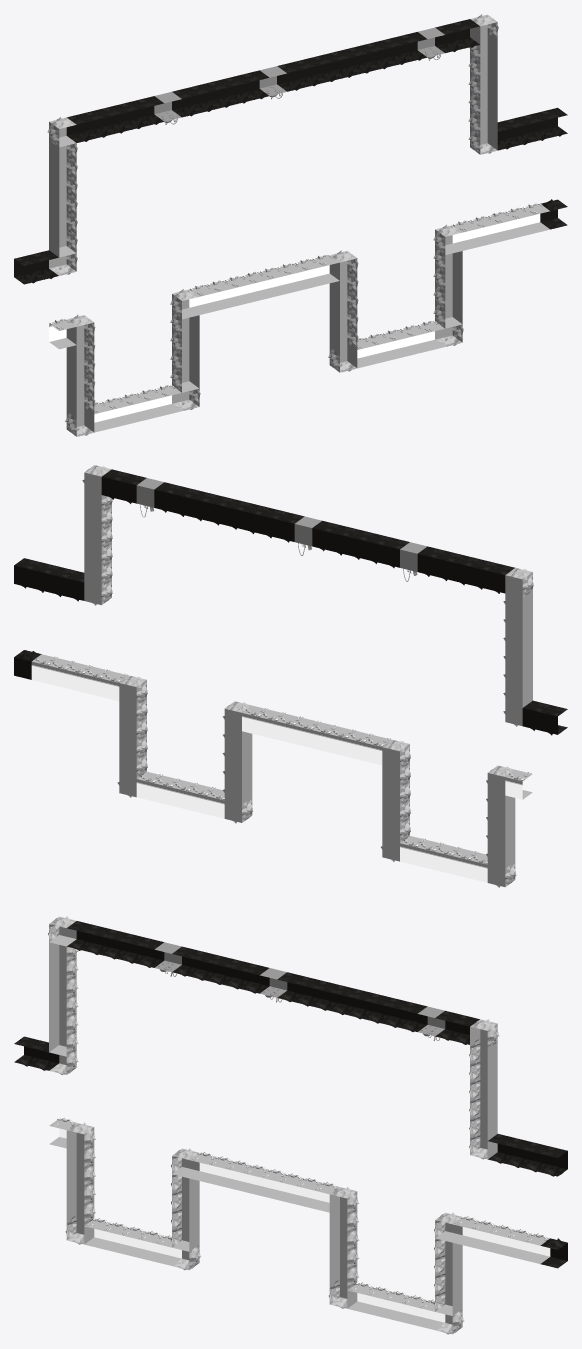
Rendered from Cubi_Room14.fbx.
3 renders of one model, top to bottom at view 1: azimuth 30°, elevation 25°; view 2: azimuth 150°, elevation 25°; view 3: azimuth 330°, elevation 25°, orthographic.
Visible parts, largest first — view 1: Cubes_Room14; view 2: Cubes_Room14; view 3: Cubes_Room14.
Boxes of the visible parts, x1,y1,x2,y2 form: Cubes_Room14: (14,14,567,436); Cubes_Room14: (14,465,567,887); Cubes_Room14: (14,916,567,1334).
Size of the model in its own units: 3100 by 1745 by 100.
